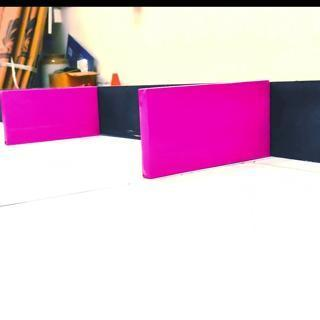xparking: (138, 88, 270, 180), (2, 89, 98, 143)
